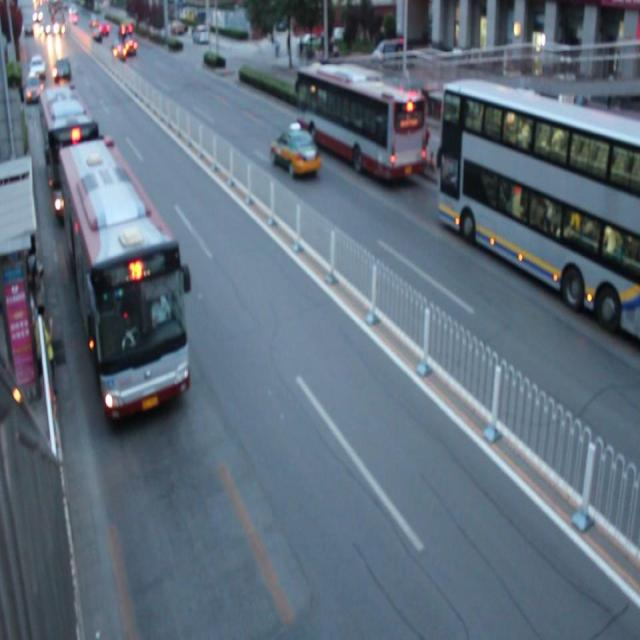car: (270, 127, 320, 179)
van: (439, 80, 640, 336), (57, 144, 189, 412), (295, 66, 422, 177), (36, 80, 99, 215)
